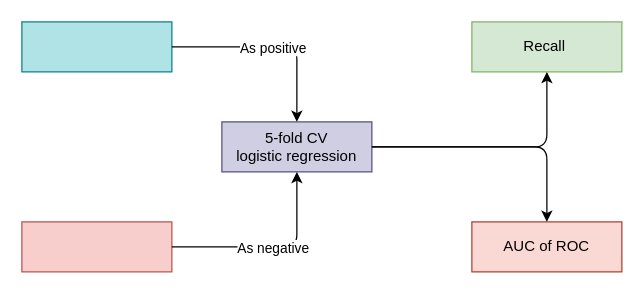
Some shapes in this 644 by 295 pixel diagram are drawn without their labels. The shapes that lost their labels are listed below. From the top down, each one's box as (x1, y1, x2, y2) in pixels, then its label:
(21, 21, 172, 72): Hallmark gene
(21, 221, 172, 272): Random selected non-hallmark gene (n = 99*9)
